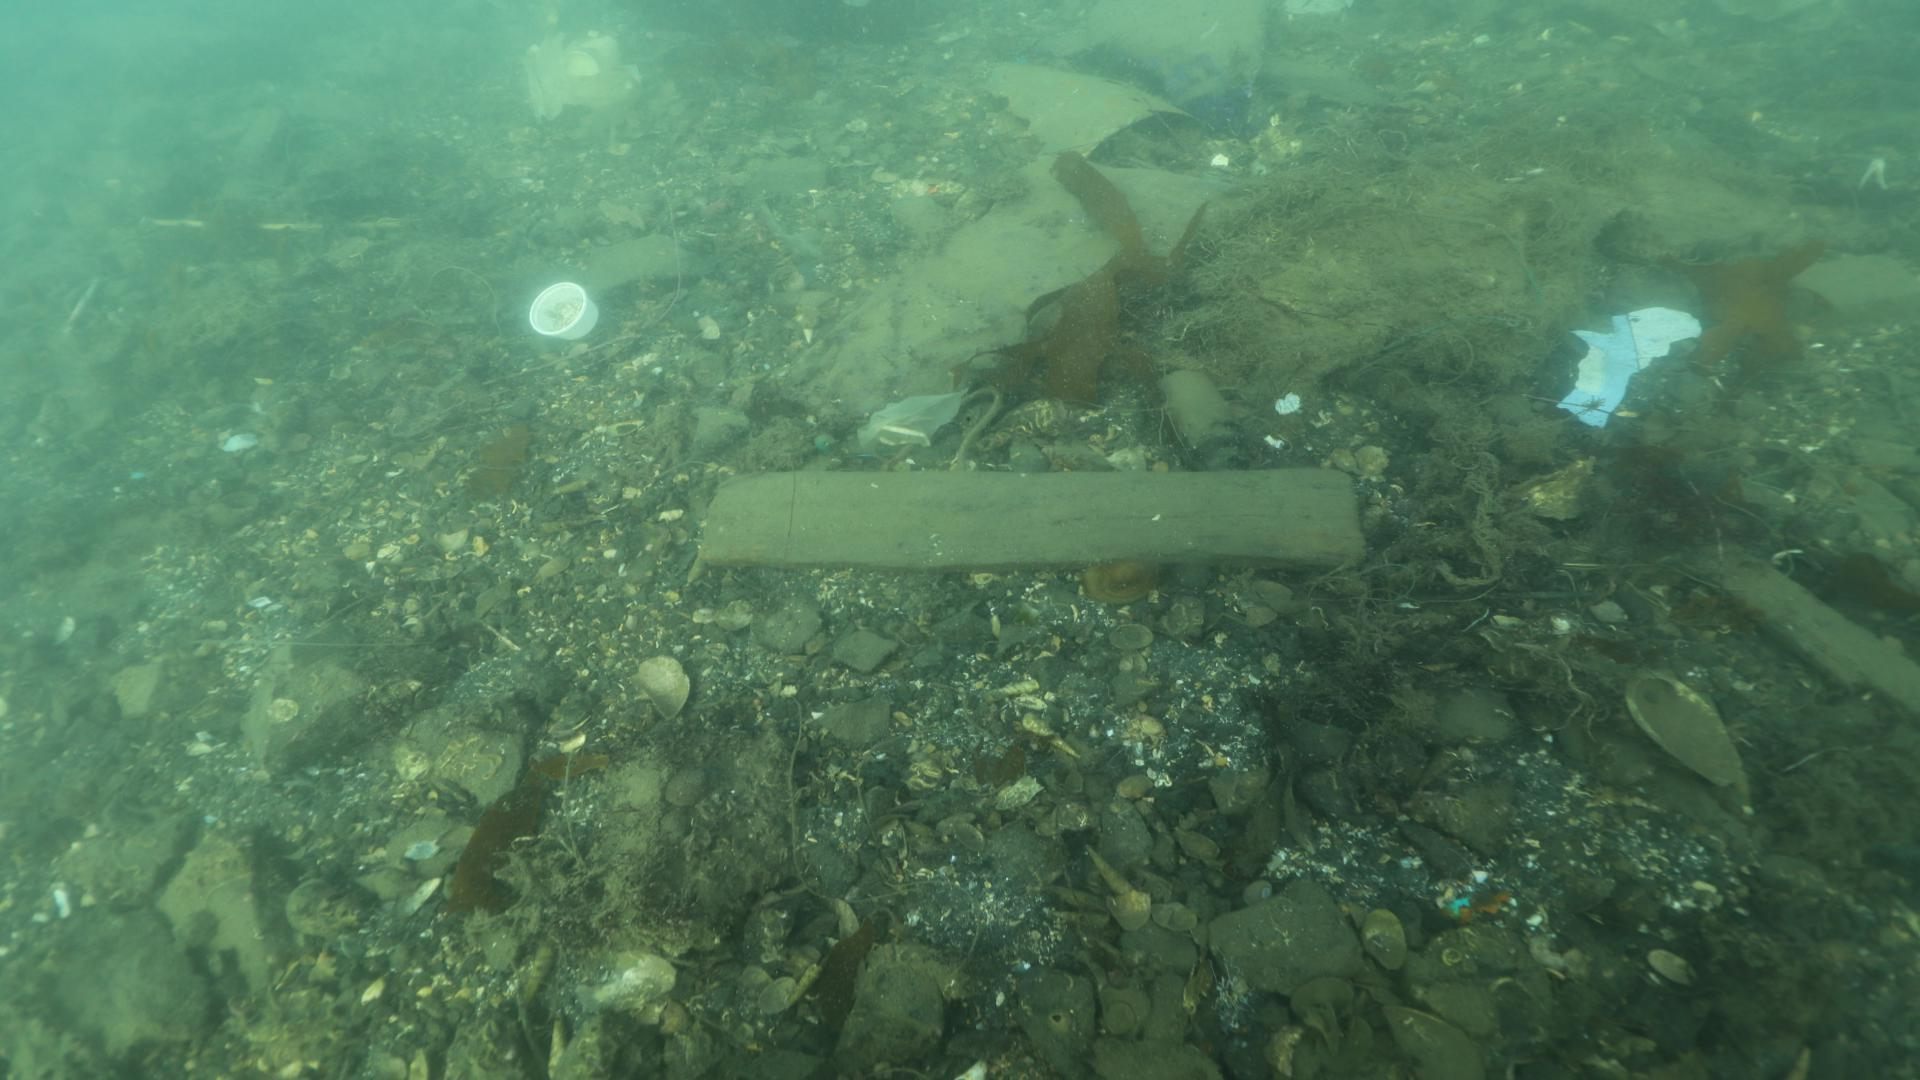wood: (696, 463, 1374, 576)
